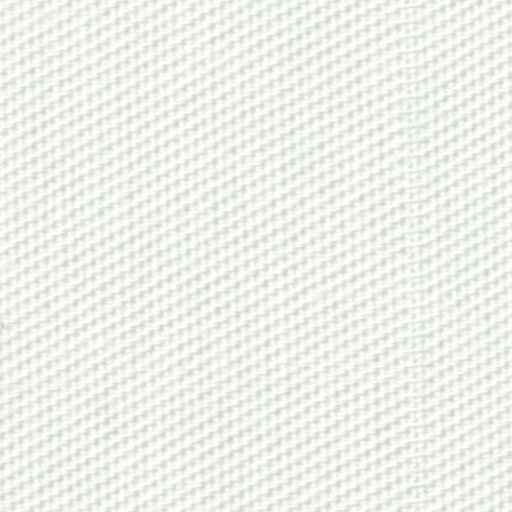TuoSha: (376, 11, 452, 506)
